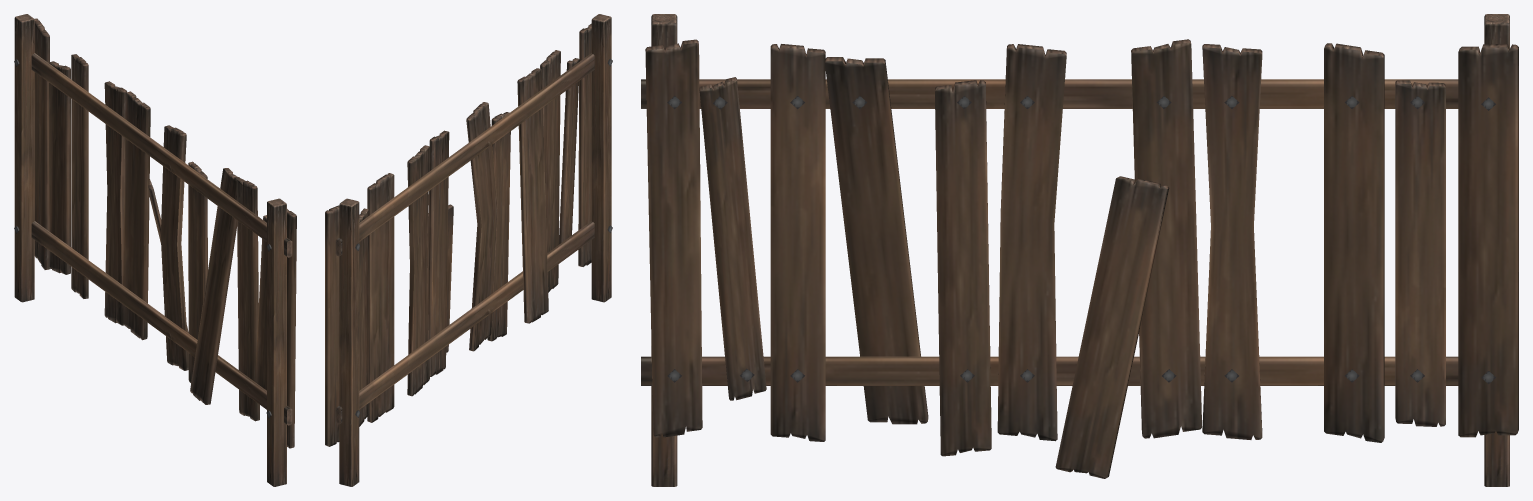
The model's file is Wall_wood_3.fbx.
3 renders of one model, left to right at view 1: azimuth 30°, elevation 25°; view 2: azimuth 150°, elevation 25°; view 3: azimuth 270°, elevation 25°, orthographic. The views are drawn at different scales.
Visible parts, largest first — view 1: polySurface123; view 2: polySurface123; view 3: polySurface123.
Boxes of the visible parts, box(x1,y1,x2,y2) form: polySurface123: box(14, 14, 296, 486); polySurface123: box(325, 14, 612, 486); polySurface123: box(641, 14, 1518, 486).
Size of the model in its own units: 49.04 by 233 by 400.
1 material, 1 textured.
